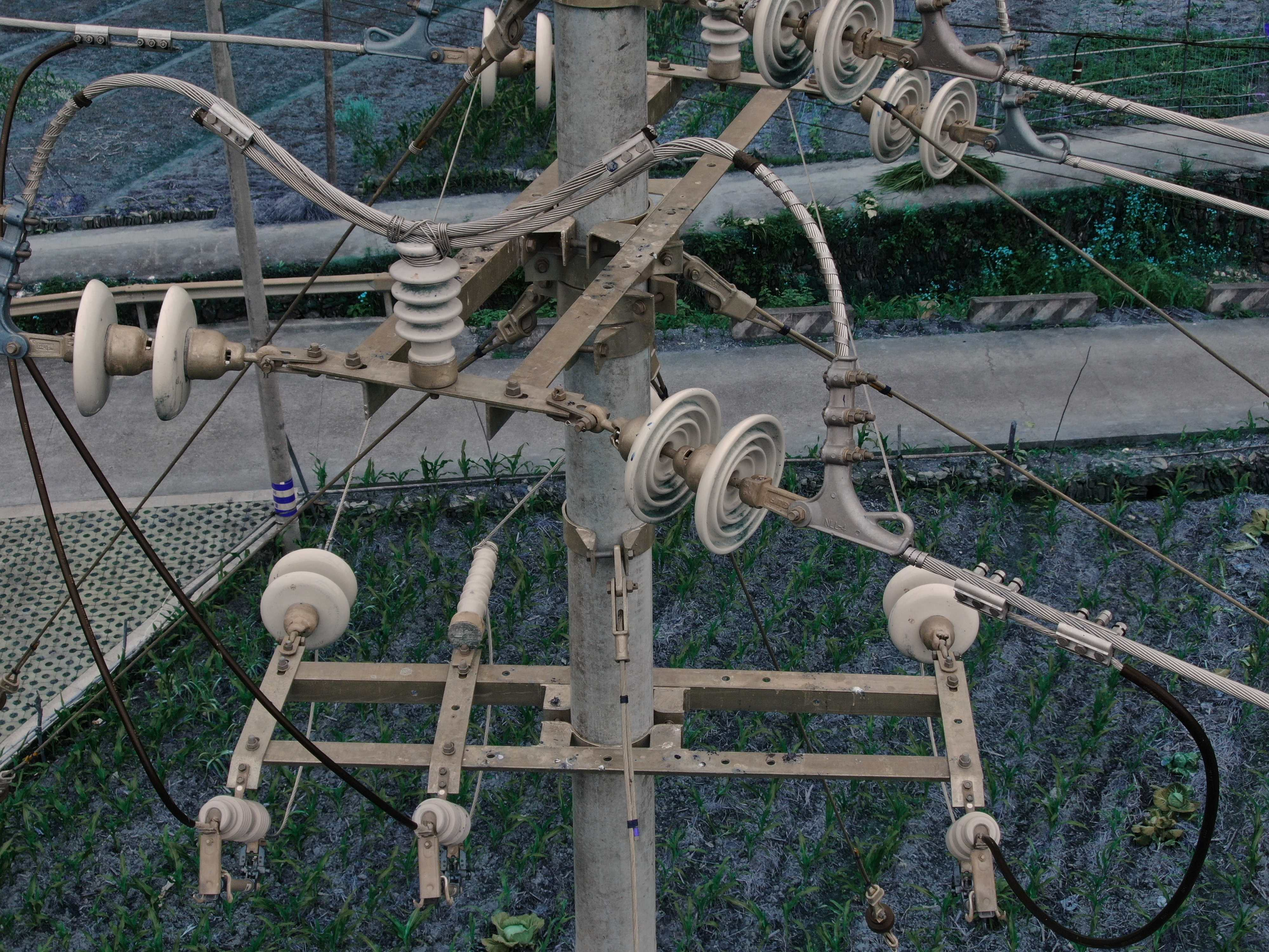severe_soiling_no_discharge_whole: (609, 382, 792, 560), (62, 272, 250, 428), (727, 2, 896, 110), (387, 232, 467, 392)
